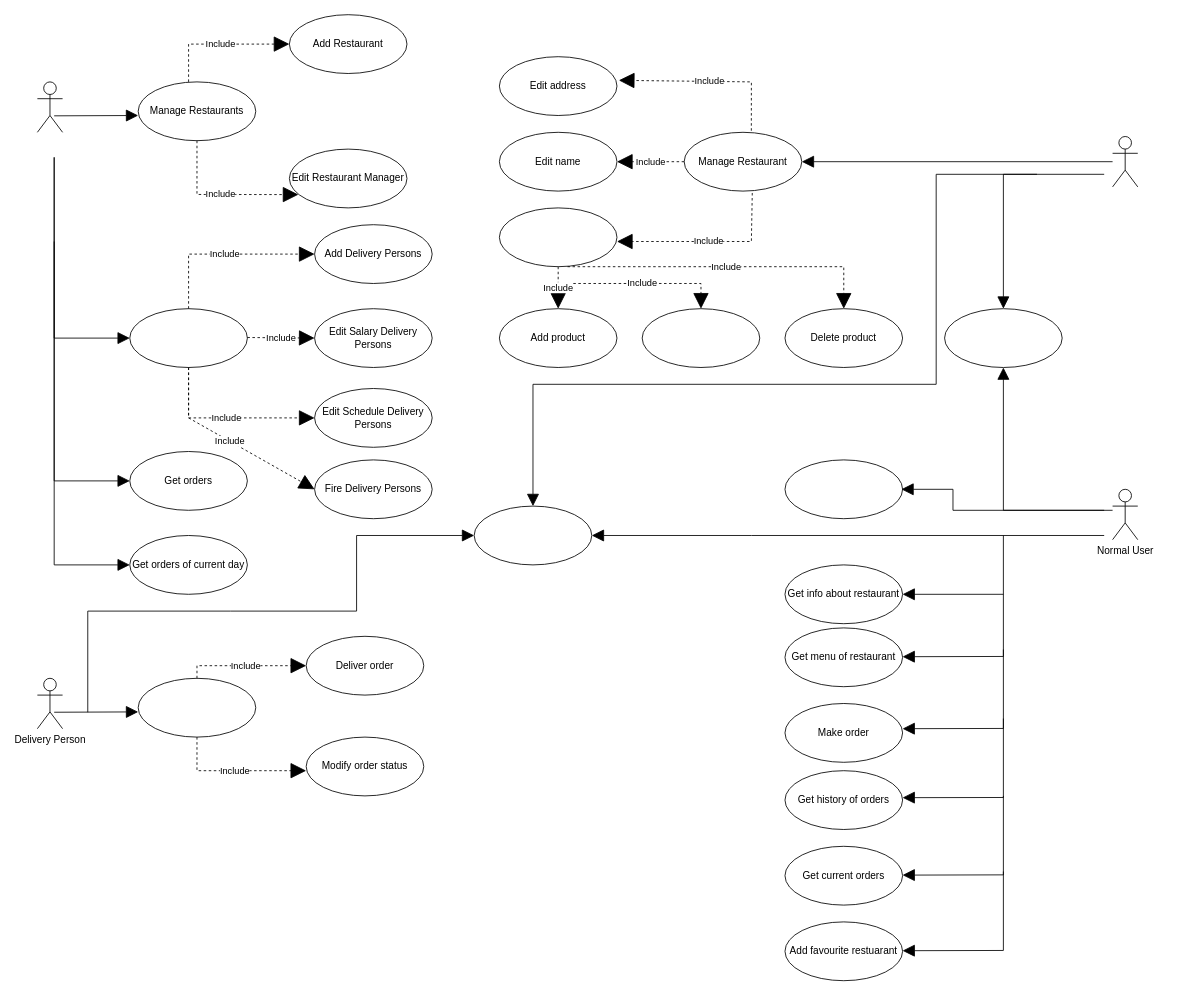
Image size: 1185x995. Some labels were removed from this diagram. Here are the shapes that lost their labels. From the top down, the centre of each, then its label:
At point 50,106: "Admin".
At point 1125,161: "Restaurant Manager".
At point 558,237: "Edit menu".
At point 188,338: "Manage Delivery Persons".
At point 700,338: "Edit products quantities".
At point 1003,338: "Get reviews and rating of restaurant".
At point 843,489: "Give review".
At point 532,535: "Edit password".
At point 196,707: "Manage orders for delivery".
